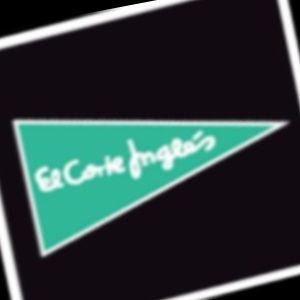corte_ingles: (255, 15, 299, 99)
